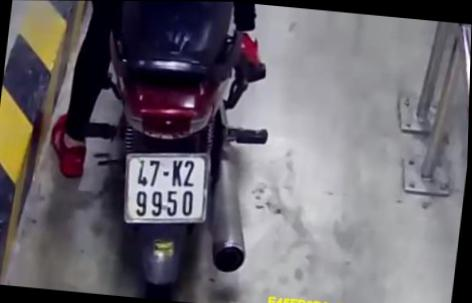LP: (118, 143, 218, 229)
